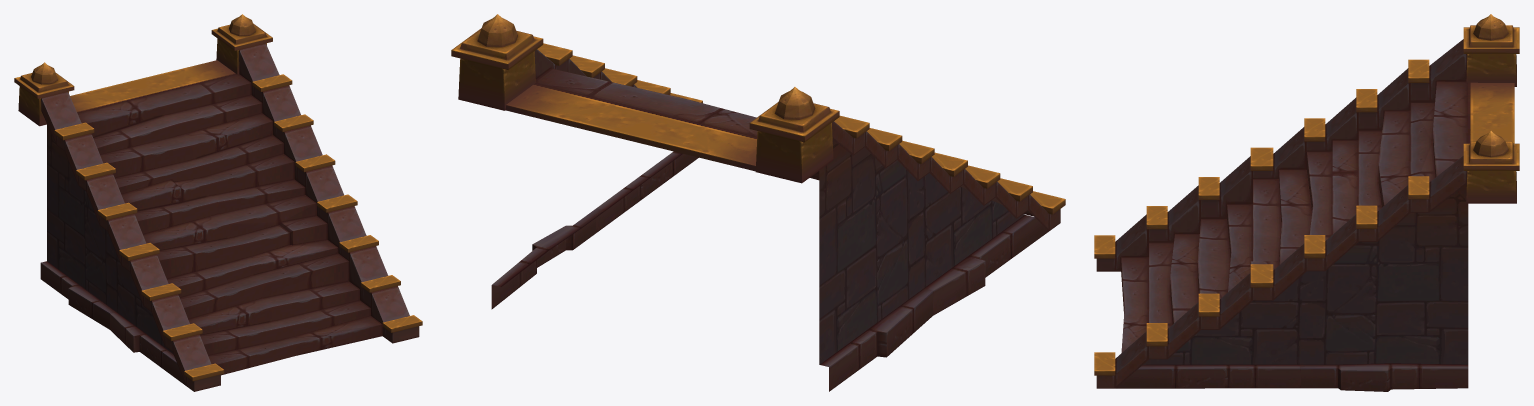
File: TLStairFBXV2.fbx
3 renders of one model, left to right at view 1: azimuth 30°, elevation 25°; view 2: azimuth 150°, elevation 25°; view 3: azimuth 270°, elevation 25°, orthographic. The views are drawn at different scales.
Parts seen in each view (by area): view 1: vault_tileset_multisub/vault_stairs_01_shadow_mat, vault_tileset_multisub/vault_stairs_01_mat, vault_tileset_multisub/wall_01_mat, vault_tileset_multisub/vault_railing_01_mat; view 2: vault_tileset_multisub/vault_stairs_01_mat, vault_tileset_multisub/wall_01_mat, vault_tileset_multisub/vault_stairs_01_shadow_mat, vault_tileset_multisub/vault_railing_01_mat; view 3: vault_tileset_multisub/vault_stairs_01_mat, vault_tileset_multisub/vault_stairs_01_shadow_mat, vault_tileset_multisub/wall_01_mat, vault_tileset_multisub/vault_railing_01_mat.
Part boxes in pixels (x1,y1,x2,y2): vault_tileset_multisub/vault_stairs_01_shadow_mat: [70, 60, 382, 375]; vault_tileset_multisub/vault_stairs_01_mat: [14, 23, 422, 391]; vault_tileset_multisub/wall_01_mat: [47, 124, 172, 353]; vault_tileset_multisub/vault_railing_01_mat: [18, 14, 266, 126]; vault_tileset_multisub/vault_stairs_01_mat: [451, 28, 1065, 391]; vault_tileset_multisub/wall_01_mat: [819, 140, 1024, 364]; vault_tileset_multisub/vault_stairs_01_shadow_mat: [505, 68, 819, 180]; vault_tileset_multisub/vault_railing_01_mat: [458, 14, 833, 183]; vault_tileset_multisub/vault_stairs_01_mat: [1094, 25, 1519, 391]; vault_tileset_multisub/vault_stairs_01_shadow_mat: [1121, 81, 1514, 352]; vault_tileset_multisub/wall_01_mat: [1143, 185, 1468, 364]; vault_tileset_multisub/vault_railing_01_mat: [1466, 14, 1516, 203].
Bounding box in the file's own units: 11.16 × 9.34 × 14.4.
Materials: 4 (4 with a texture image).
